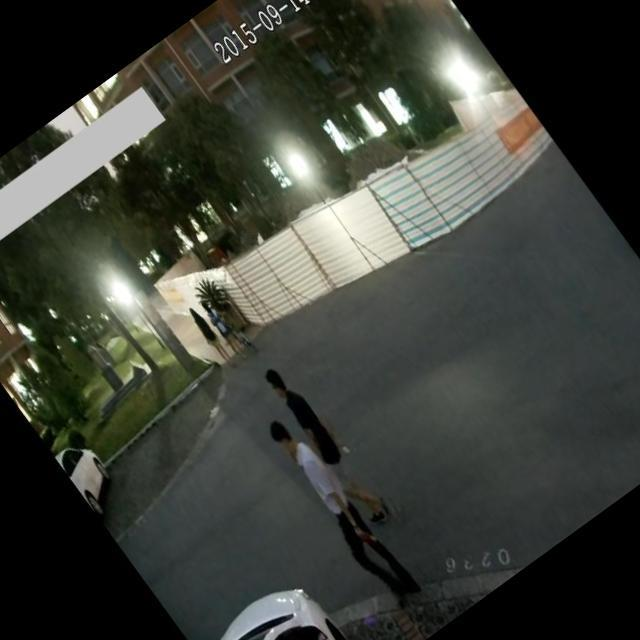person: (252, 404, 428, 622), (253, 355, 407, 546), (181, 299, 239, 372)
